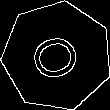O_E: (26, 28, 88, 84)
